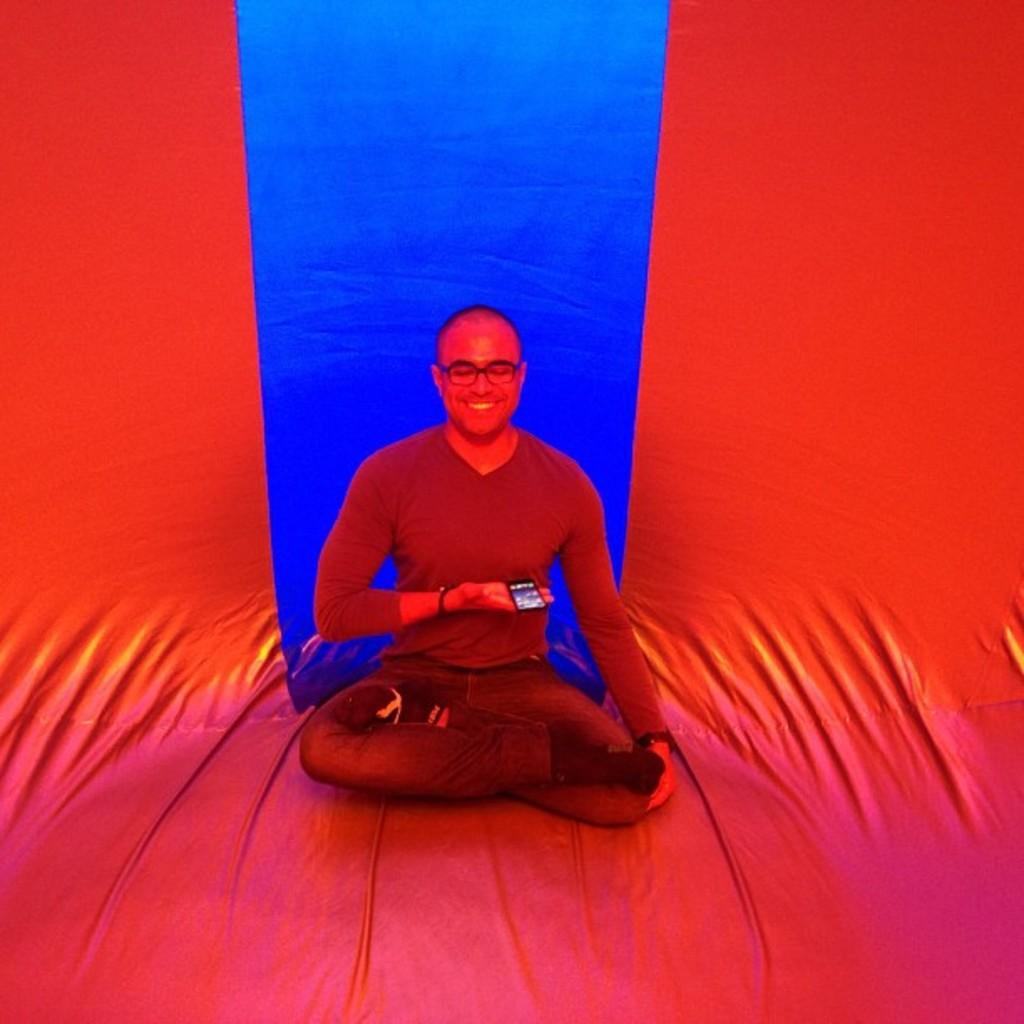Sem Máscara: (438, 321, 519, 440)
